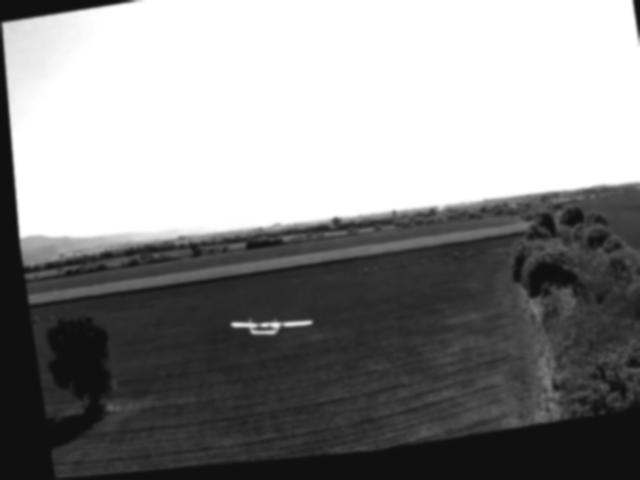hedef: (217, 307, 314, 353)
